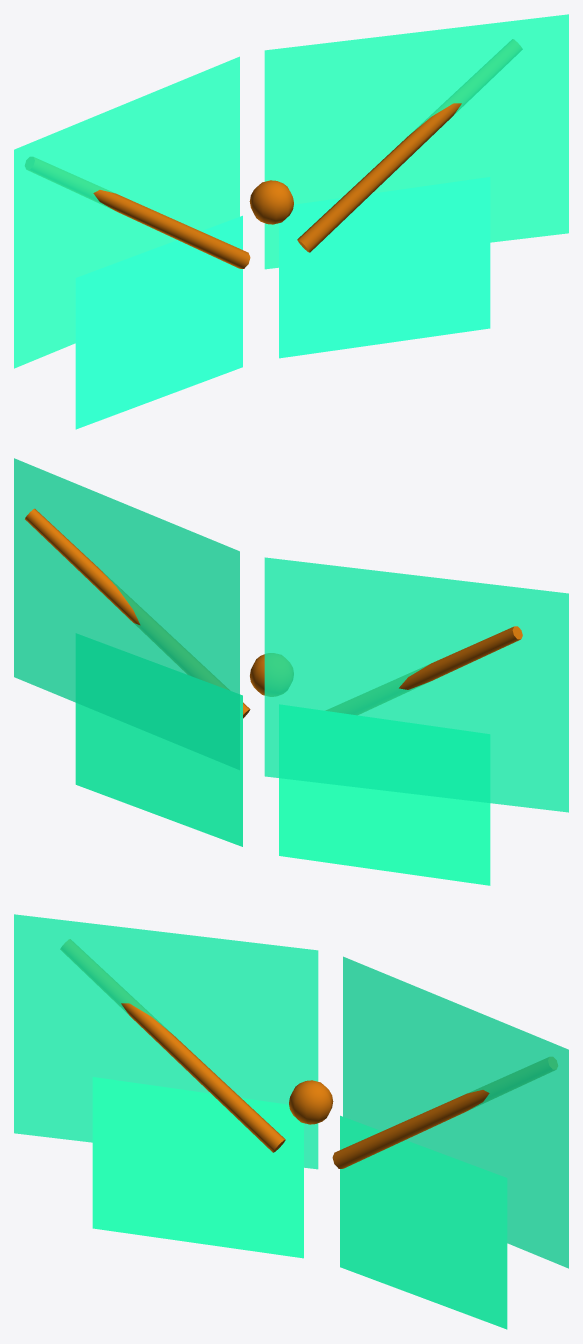
Rendered from wings_spirits_level2.glb.
3 renders of one model, top to bottom at view 1: azimuth 30°, elevation 25°; view 2: azimuth 150°, elevation 25°; view 3: azimuth 330°, elevation 25°, orthographic.
Visible parts, largest first — view 1: WINGS_OF_SPIRITS_LEVEL2; view 2: WINGS_OF_SPIRITS_LEVEL2; view 3: WINGS_OF_SPIRITS_LEVEL2.
Part boxes in pixels (x1=…): WINGS_OF_SPIRITS_LEVEL2: x1=14, y1=14, x2=568, y2=429; WINGS_OF_SPIRITS_LEVEL2: x1=14, y1=458, x2=568, y2=885; WINGS_OF_SPIRITS_LEVEL2: x1=14, y1=914, x2=568, y2=1329.
Size of the model in its own units: 3.45 by 1.8 by 0.4206.
